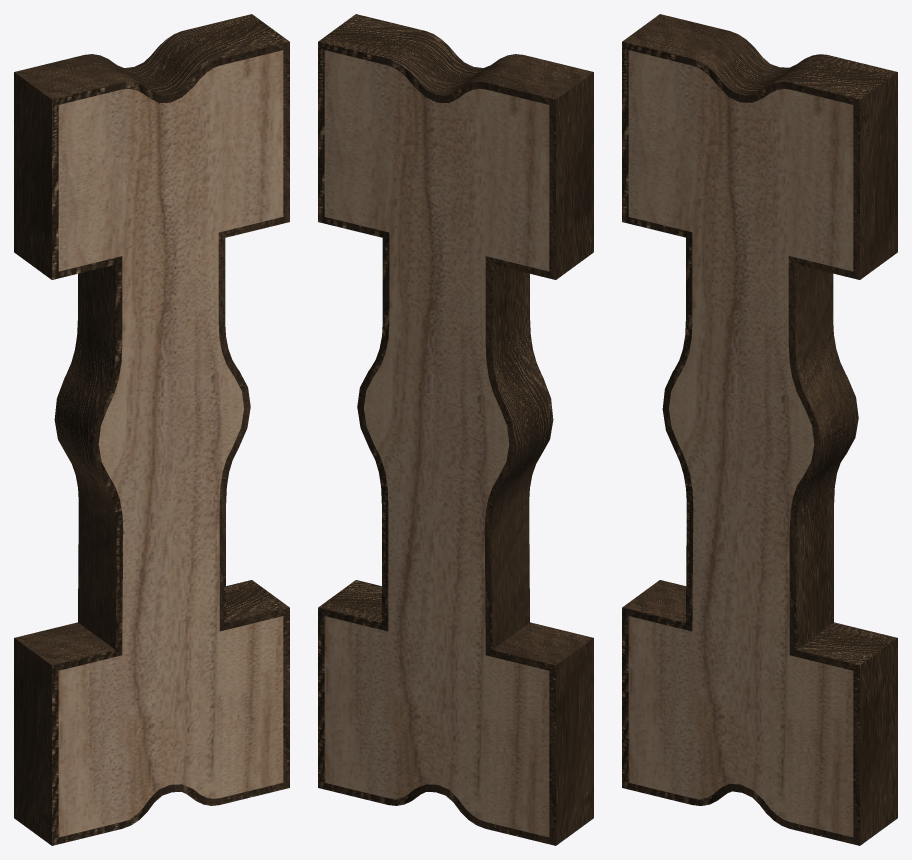
The picture shows the model from 3 angles, left to right: view 1: azimuth 30°, elevation 25°; view 2: azimuth 150°, elevation 25°; view 3: azimuth 330°, elevation 25°; orthographic projection.
Visible parts, largest first — view 1: I, I_outline; view 2: I, I_outline; view 3: I, I_outline.
Boxes of the visible parts, x1,y1,x2,y2 form: I: (58, 50, 283, 837); I_outline: (14, 14, 289, 845); I: (324, 50, 549, 837); I_outline: (318, 14, 593, 845); I: (628, 50, 853, 837); I_outline: (622, 14, 897, 845).
Bounding box in the file's own units: 36.29 × 109 × 10.
Materials: 2 (2 with a texture image).
